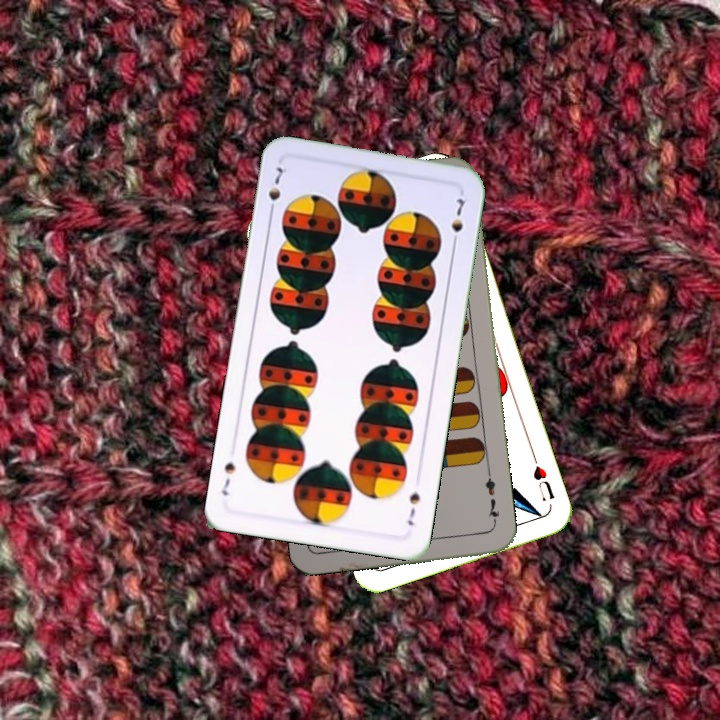E7: (481, 469, 502, 528)
HU: (528, 451, 558, 504)
S7: (264, 162, 290, 219), (403, 488, 423, 528)
